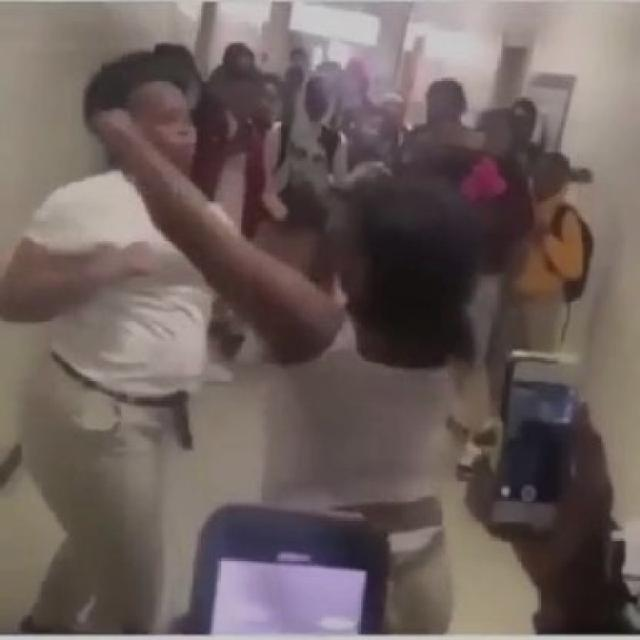fight: (0, 54, 487, 638)
